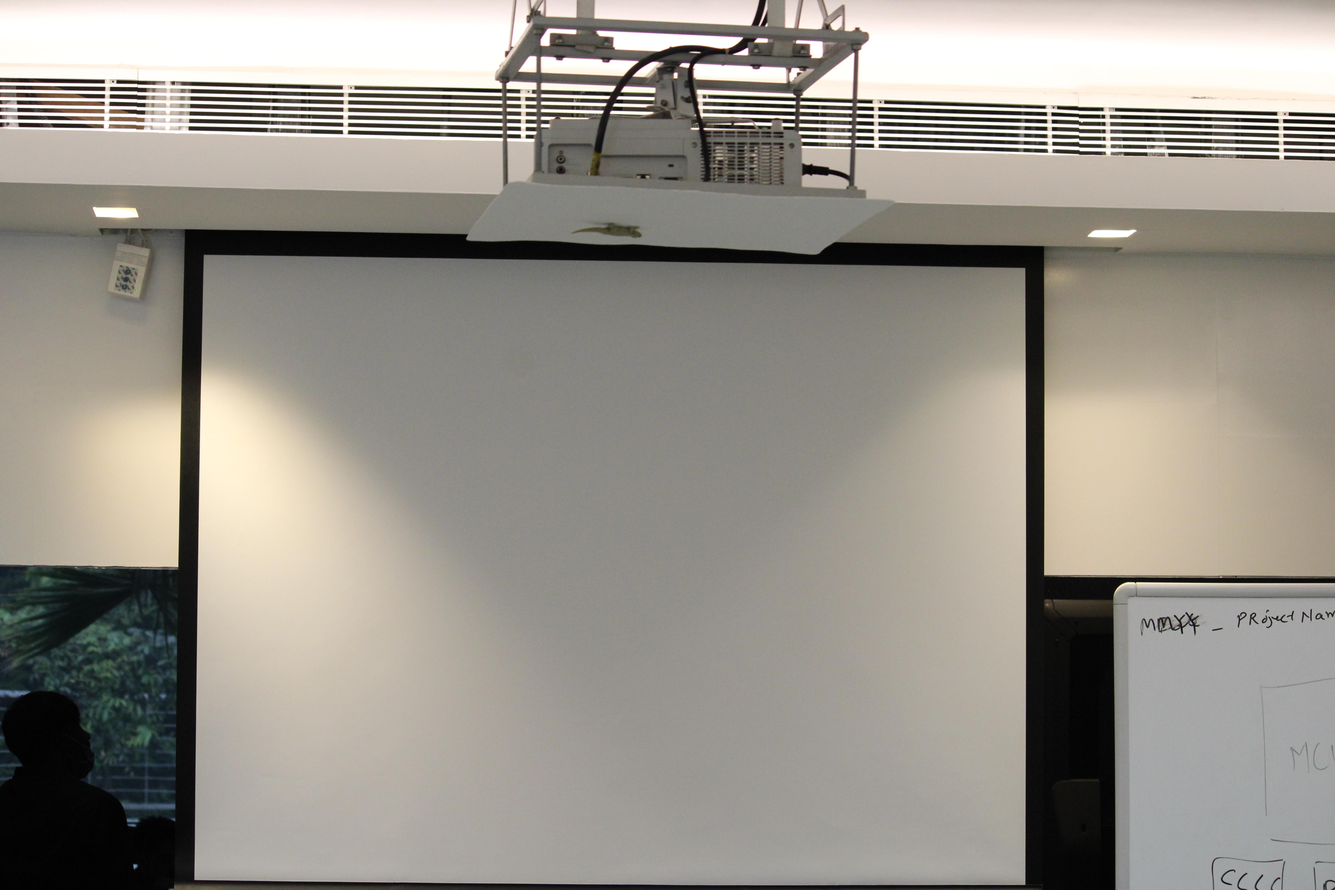lizard: (568, 214, 649, 249)
